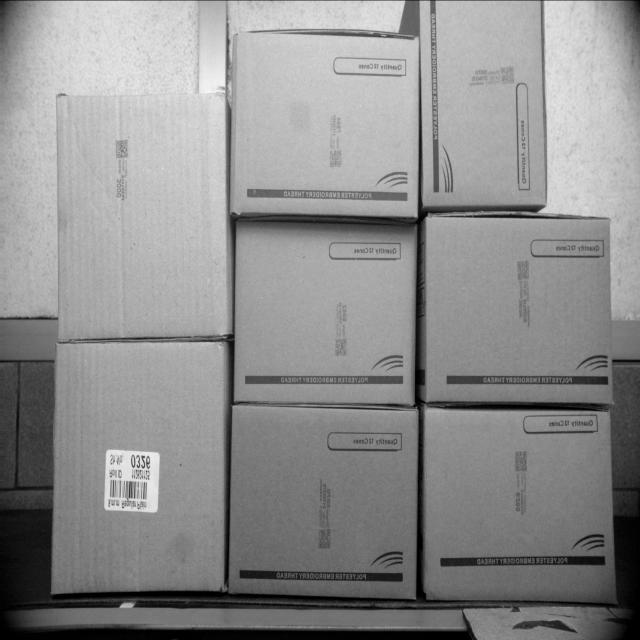cardboxes: (51, 341, 228, 589), (57, 93, 229, 332), (425, 409, 617, 601), (231, 31, 418, 219), (426, 217, 613, 403), (231, 411, 417, 591), (236, 220, 416, 398), (423, 0, 545, 209), (423, 0, 545, 208)
